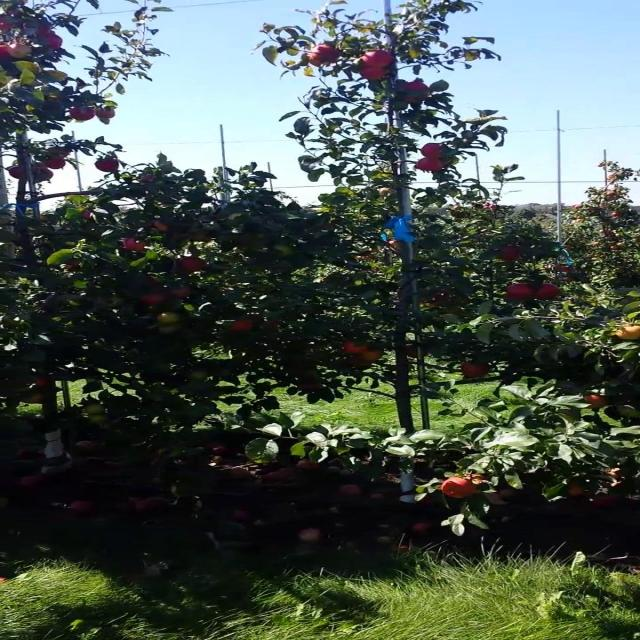apple: (440, 480, 480, 500), (404, 84, 432, 104), (362, 52, 396, 66), (504, 284, 533, 300), (461, 364, 491, 378), (490, 488, 516, 504), (312, 48, 341, 62), (141, 292, 169, 306), (177, 260, 206, 273), (13, 44, 36, 60), (497, 248, 521, 263), (582, 396, 612, 408), (540, 284, 562, 300), (468, 472, 491, 487), (419, 160, 446, 172), (362, 68, 389, 80), (618, 324, 638, 340), (70, 108, 94, 121), (348, 340, 370, 354), (35, 168, 57, 182), (305, 52, 324, 68), (426, 144, 446, 159), (156, 312, 181, 324), (348, 356, 372, 368), (234, 320, 256, 332), (99, 160, 121, 172), (127, 240, 149, 252), (191, 232, 213, 244), (604, 468, 626, 480), (596, 496, 619, 507), (170, 288, 192, 299), (84, 404, 107, 414), (362, 352, 384, 362), (618, 408, 638, 419), (99, 108, 117, 120), (141, 276, 160, 287), (404, 344, 420, 357), (568, 484, 585, 496), (433, 292, 450, 304), (49, 148, 71, 157), (49, 36, 64, 49), (28, 392, 44, 404), (298, 384, 322, 392), (554, 264, 576, 272), (13, 168, 27, 180), (276, 248, 297, 256), (35, 28, 55, 36), (49, 72, 69, 80), (604, 480, 624, 488), (49, 160, 68, 168), (191, 372, 208, 380), (1, 48, 12, 59), (156, 224, 171, 232), (92, 416, 107, 424), (35, 380, 50, 388), (141, 176, 156, 184), (63, 264, 78, 272), (269, 320, 283, 328), (390, 240, 404, 248), (6, 20, 14, 29), (8, 44, 14, 55), (84, 212, 92, 220)
